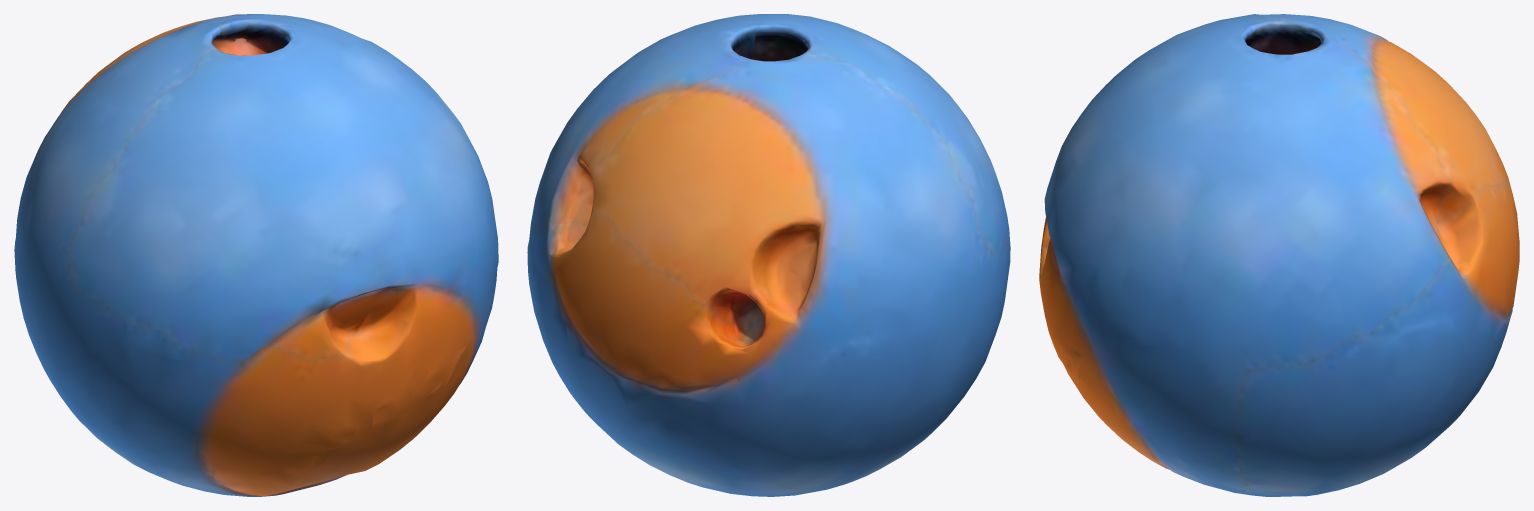
File: Toys_R_Us_Treat_Dispenser_Smart_Puzzle_Foobler-high.glb
3 views of the same model, side by side, from view 1: azimuth 30°, elevation 25°; view 2: azimuth 150°, elevation 25°; view 3: azimuth 270°, elevation 25° (orthographic).
Parts seen in each view (by area): view 1: Toys_R_Us_Treat_Dispenser_Smart_Puzzle_Foobler; view 2: Toys_R_Us_Treat_Dispenser_Smart_Puzzle_Foobler; view 3: Toys_R_Us_Treat_Dispenser_Smart_Puzzle_Foobler.
Part boxes in pixels (x1,y1,x2,y2): Toys_R_Us_Treat_Dispenser_Smart_Puzzle_Foobler: (14,14,498,496); Toys_R_Us_Treat_Dispenser_Smart_Puzzle_Foobler: (527,14,1010,496); Toys_R_Us_Treat_Dispenser_Smart_Puzzle_Foobler: (1039,14,1519,496).
Bounding box in the file's own units: 0.1547 × 0.1535 × 0.1539.
1 material, 1 textured.
